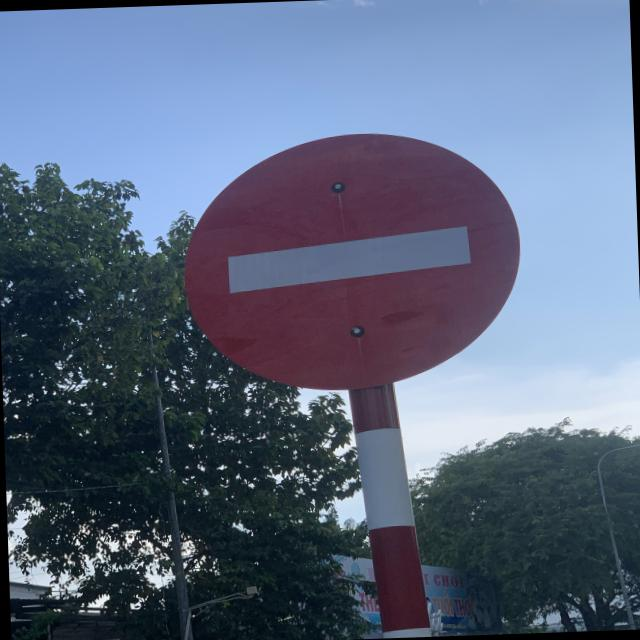Cam_Di_Nguoc_Chieu: (172, 125, 530, 398)
